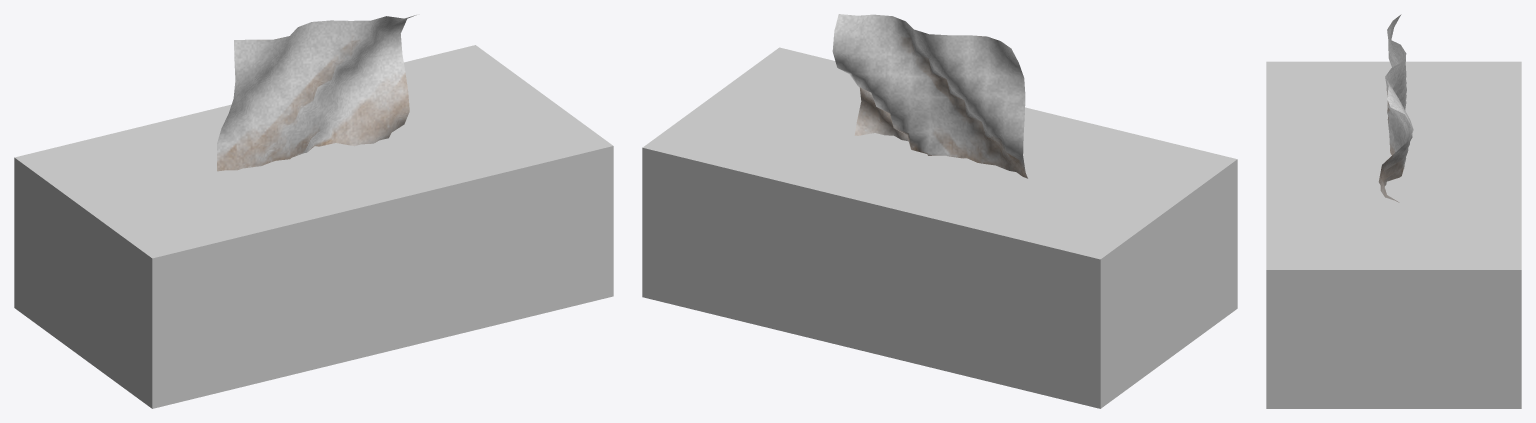
The model's file is tissue-box.fbx.
3 views of the same model, side by side, from view 1: azimuth 30°, elevation 25°; view 2: azimuth 150°, elevation 25°; view 3: azimuth 270°, elevation 25° (orthographic). The views are drawn at different scales.
Parts seen in each view (by area): view 1: Cube; view 2: Cube; view 3: Cube.
Boxes of the visible parts, bbox=[...] form: Cube: bbox=[14, 15, 613, 408]; Cube: bbox=[642, 14, 1237, 408]; Cube: bbox=[1266, 14, 1521, 408].
Bounding box in the file's own units: 200 × 115 × 104.
